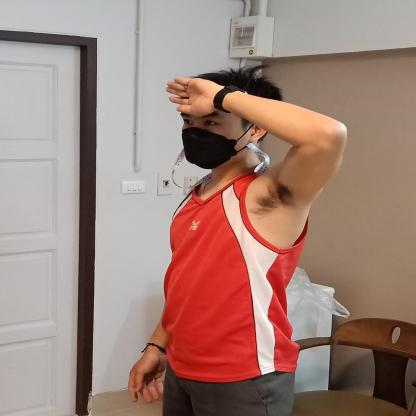Sick: (150, 65, 356, 175)
